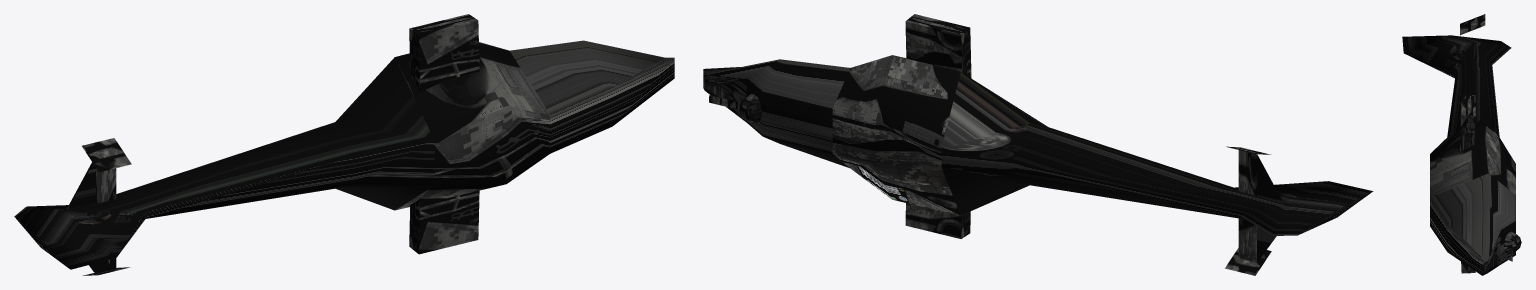
The model's file is veh_t6_air_attack_heli_mp_dark_LOD1.obj.
The picture shows the model from 3 angles, left to right: view 1: azimuth 30°, elevation 25°; view 2: azimuth 150°, elevation 25°; view 3: azimuth 270°, elevation 25°; orthographic projection. The views are drawn at different scales.
Visible parts, largest first — view 1: mtl_veh_air_ah94_body_dark; view 2: mtl_veh_air_ah94_body_dark; view 3: mtl_veh_air_ah94_body_dark.
Part boxes in pixels (x1,y1,x2,y2): mtl_veh_air_ah94_body_dark: (14,14,674,275); mtl_veh_air_ah94_body_dark: (703,14,1373,275); mtl_veh_air_ah94_body_dark: (1402,14,1521,275).
Size of the model in its own units: 1409 by 448 by 307.
